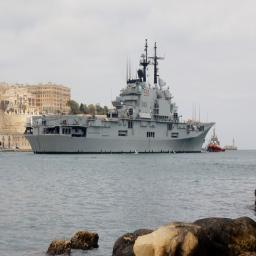Portanaves: (23, 37, 219, 156)
